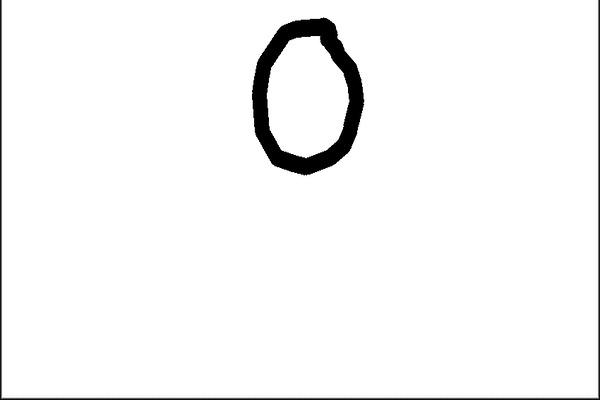O: (241, 8, 370, 182)
